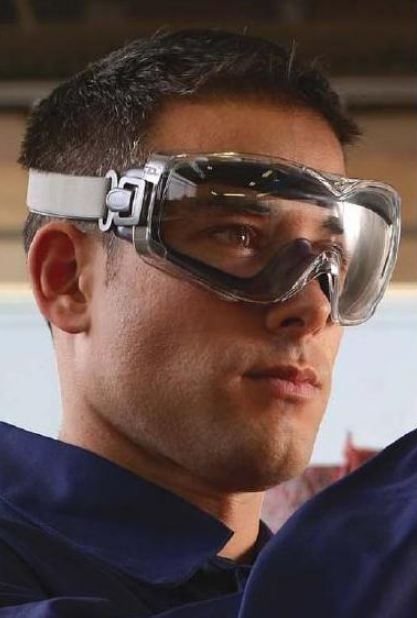safety_goggles: (15, 154, 416, 335)
